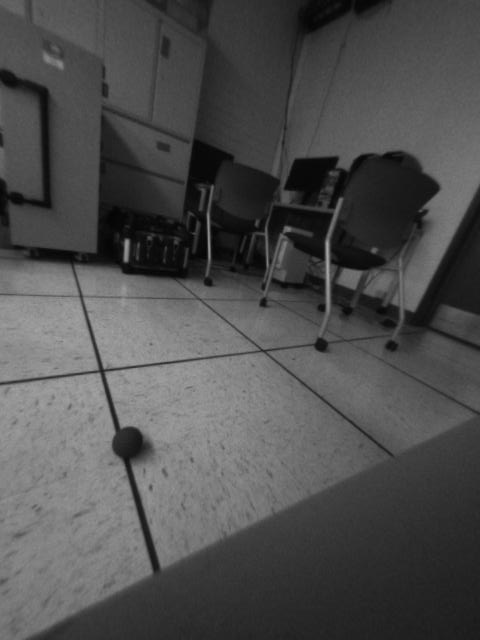dogtoy: (104, 417, 154, 467)
